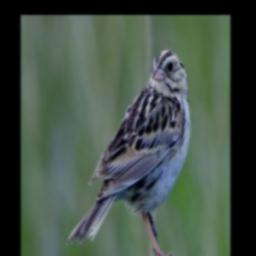Sparrow: (65, 49, 190, 256)
